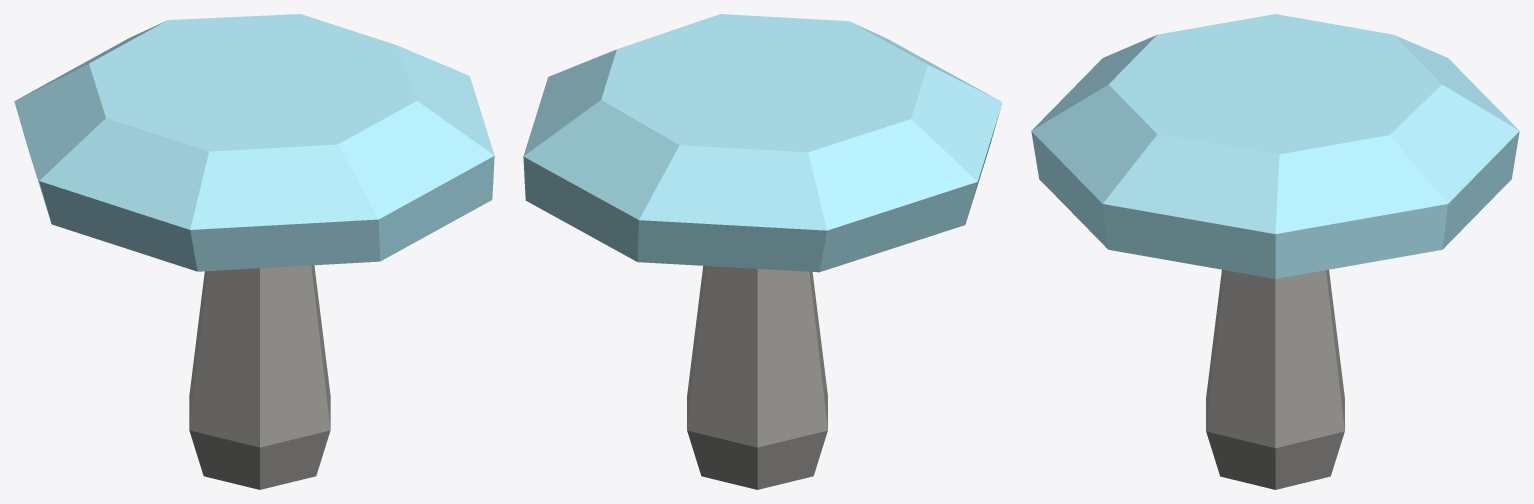
Rendered from GlowShroom2Flat.fbx.
3 renders of one model, left to right at view 1: azimuth 30°, elevation 25°; view 2: azimuth 150°, elevation 25°; view 3: azimuth 270°, elevation 25°, orthographic.
Parts seen in each view (by area): view 1: GlowShroom2Flat; view 2: GlowShroom2Flat; view 3: GlowShroom2Flat.
Boxes of the visible parts, left/top/right/bottom form: GlowShroom2Flat: left=14, top=14, right=494, bottom=489; GlowShroom2Flat: left=523, top=14, right=1002, bottom=489; GlowShroom2Flat: left=1031, top=14, right=1519, bottom=489.
Size of the model in its own units: 9.07 by 7.69 by 9.07.
